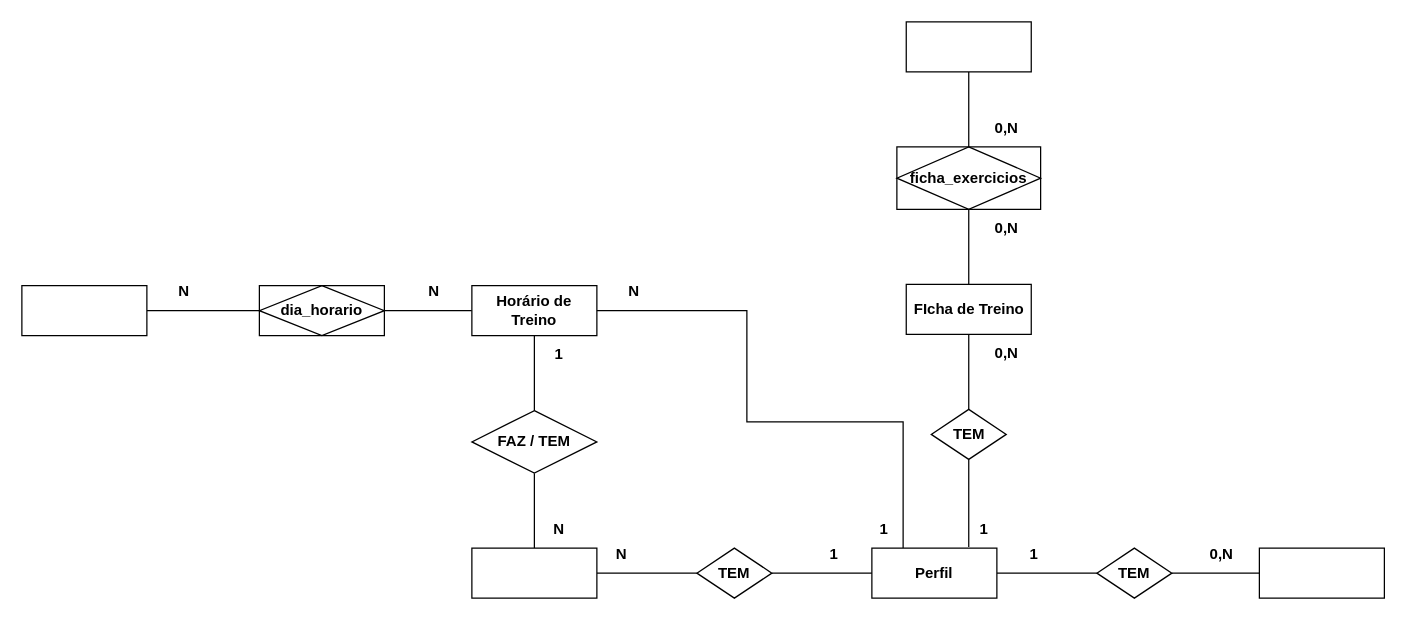
This 1406x620 diagram has some shape labels left out. Each missing label, with the centre of its shape:
"Agendamento" belongs at (534,572).
"Dia" belongs at (84,310).
"Exercício" belongs at (968,46).
"Relatório de Treino" belongs at (1321,572).
